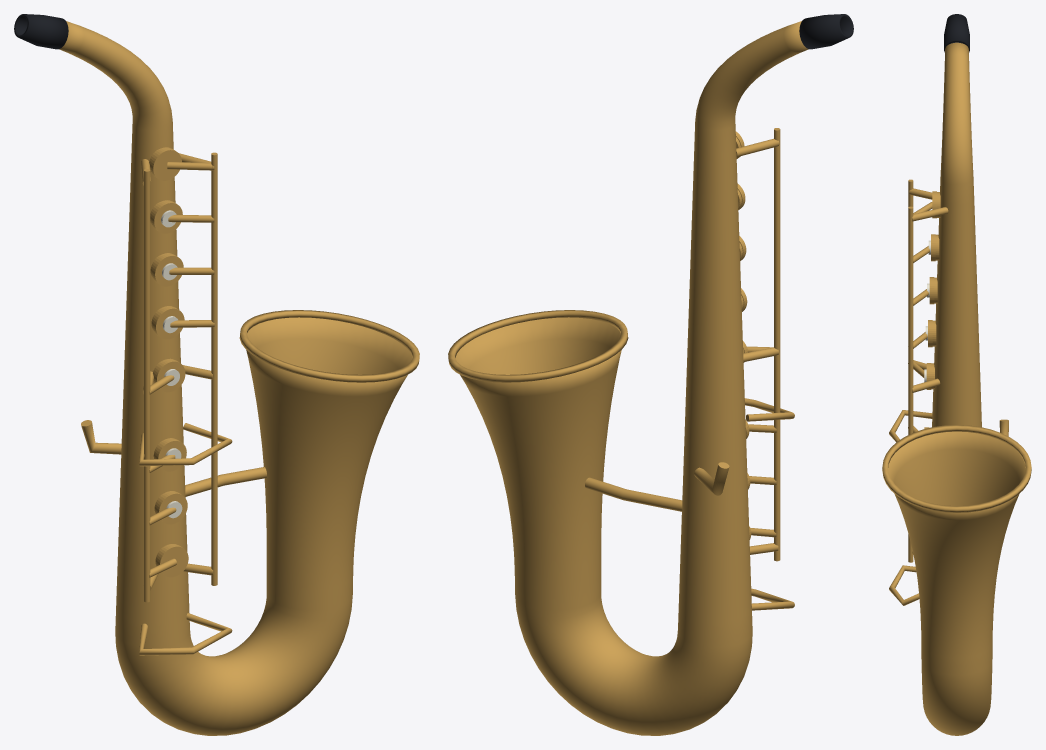
Rendered from A-NEW-20261026-ALTO-SAXOPHONE-001_LOD0_R2.fbx.
The picture shows the model from 3 angles, left to right: view 1: azimuth 30°, elevation 25°; view 2: azimuth 150°, elevation 25°; view 3: azimuth 270°, elevation 25°; orthographic projection. The views are drawn at different scales.
Parts seen in each view (by area): view 1: continuous neck body bow and open bell, rolled bell rim, left key rod, right key rod, open black mouthpiece, lower key guard 0, lower key guard 1, bell body brace, closed cup 07, closed cup 00; view 2: continuous neck body bow and open bell, rolled bell rim, left key rod, open black mouthpiece, bell body brace; view 3: continuous neck body bow and open bell, rolled bell rim, right key rod, open black mouthpiece, lower key guard 0, lower key guard 1, right rod pillar 0.525.
Boxes of the visible parts, x1,y1,x2,y2 form: continuous neck body bow and open bell: (59, 21, 412, 735); rolled bell rim: (239, 310, 419, 382); left key rod: (144, 169, 150, 602); right key rod: (211, 152, 217, 585); open black mouthpiece: (14, 14, 68, 49); lower key guard 0: (139, 613, 232, 655); lower key guard 1: (139, 423, 232, 466); bell body brace: (185, 467, 266, 496); closed cup 07: (150, 148, 181, 180); closed cup 00: (157, 544, 188, 577); continuous neck body bow and open bell: (455, 21, 808, 735); rolled bell rim: (448, 310, 628, 382); left key rod: (774, 128, 780, 561); open black mouthpiece: (799, 14, 853, 49); bell body brace: (585, 477, 682, 511); continuous neck body bow and open bell: (888, 42, 1025, 735); rolled bell rim: (882, 425, 1031, 512); right key rod: (908, 206, 913, 562); open black mouthpiece: (944, 14, 969, 52); lower key guard 0: (889, 565, 919, 605); lower key guard 1: (889, 410, 932, 442); right rod pillar 0.525: (912, 207, 948, 221).
Size of the model in its own units: 31.31 by 58.67 by 12.6.
